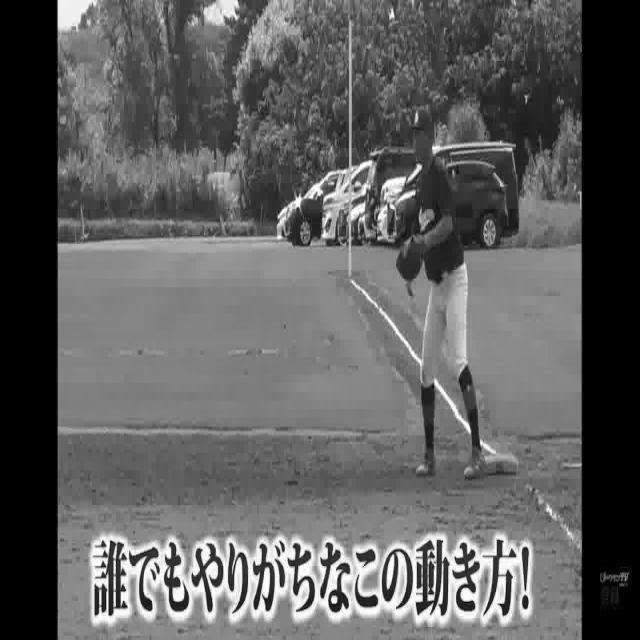base: (478, 453, 518, 477)
baseball_glove: (396, 228, 426, 286)
shoe: (413, 446, 439, 484), (462, 442, 486, 480)
